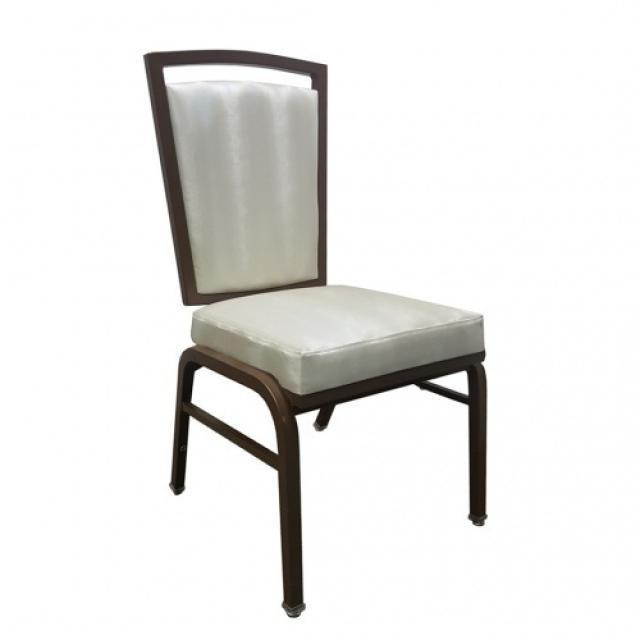chair: (143, 49, 500, 620)
